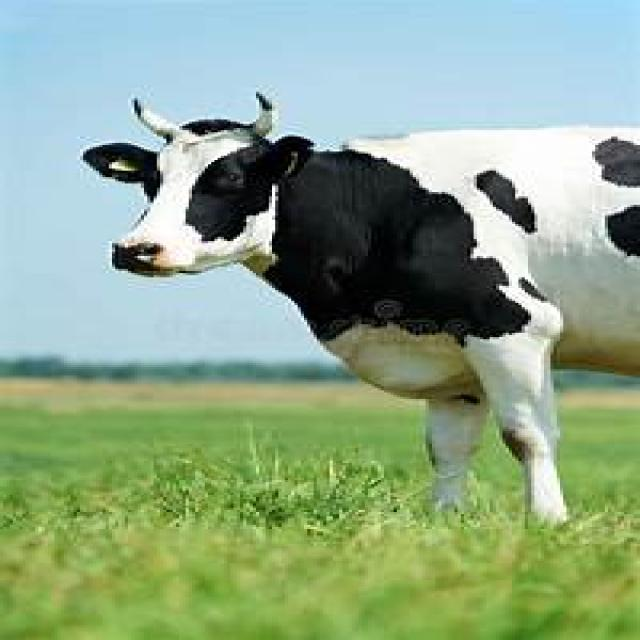animal: (80, 90, 637, 529)
